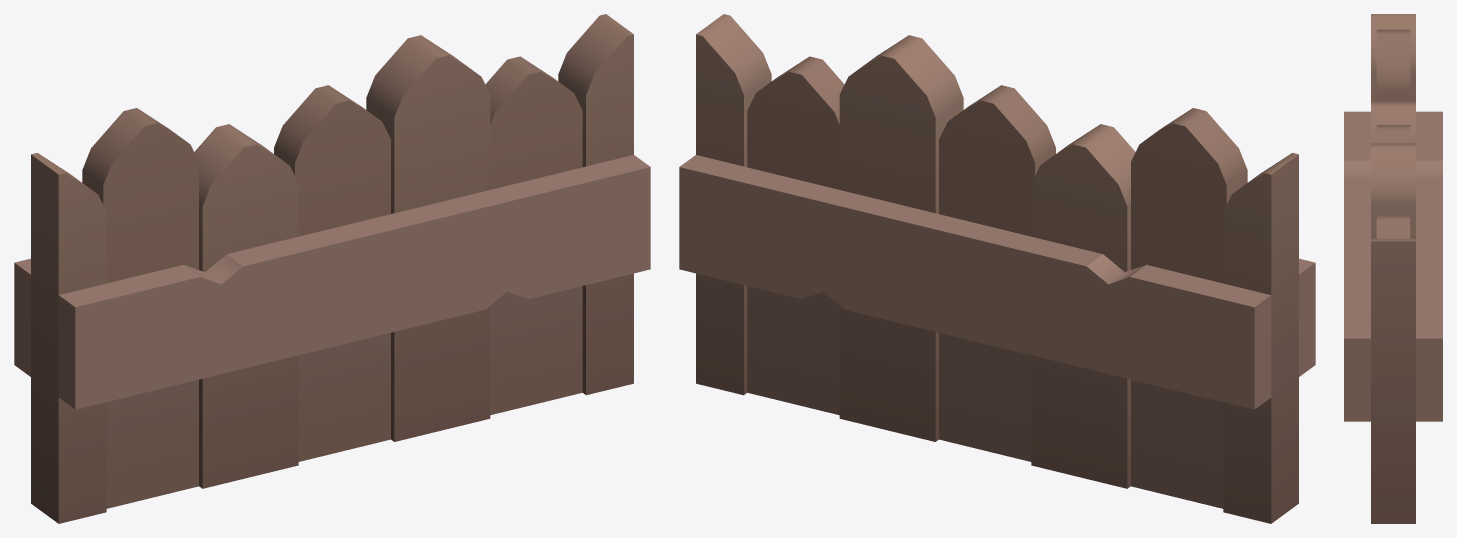
File: fence.glb
The picture shows the model from 3 angles, left to right: view 1: azimuth 30°, elevation 25°; view 2: azimuth 150°, elevation 25°; view 3: azimuth 270°, elevation 25°; orthographic projection. The views are drawn at different scales.
Visible parts, largest first — view 1: fence; view 2: fence; view 3: fence.
Boxes of the visible parts, left/top/right/bottom form: fence: left=14, top=14, right=650, bottom=523; fence: left=679, top=14, right=1315, bottom=523; fence: left=1344, top=14, right=1442, bottom=523.
Bounding box in the file's own units: 1.5 × 0.9301 × 0.276.
1 material, 1 textured.
